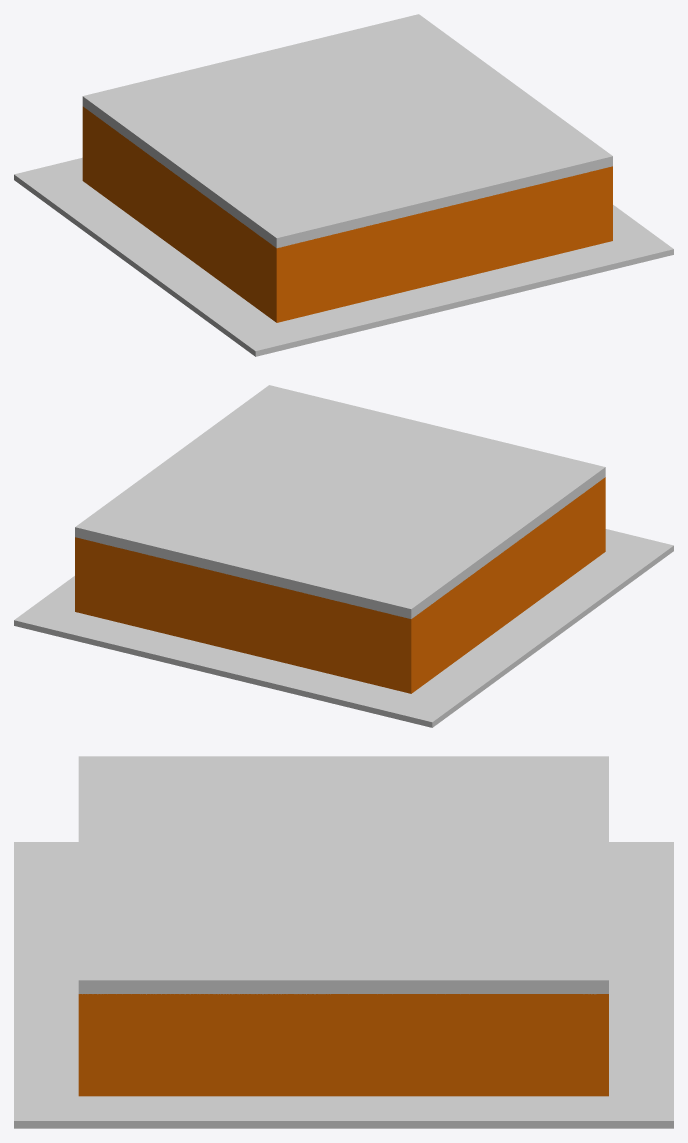
The model's file is CAKE C 1 layer.glb.
3 renders of one model, top to bottom at view 1: azimuth 30°, elevation 25°; view 2: azimuth 150°, elevation 25°; view 3: azimuth 270°, elevation 25°, orthographic. The views are drawn at different scales.
Parts seen in each view (by area): view 1: base top 3, base bot 3, plate 3; view 2: base top 3, base bot 3, plate 3; view 3: base top 3, plate 3, base bot 3.
Part boxes in pixels (x1=…): base top 3: x1=82, y1=14, x2=612, y2=248; base bot 3: x1=82, y1=106, x2=612, y2=322; plate 3: x1=14, y1=157, x2=673, y2=356; base top 3: x1=75, y1=385, x2=605, y2=618; base bot 3: x1=75, y1=477, x2=605, y2=693; plate 3: x1=14, y1=529, x2=673, y2=727; base top 3: x1=78, y1=756, x2=608, y2=994; plate 3: x1=14, y1=842, x2=673, y2=1128; base bot 3: x1=78, y1=994, x2=608, y2=1096.
Size of the model in its own units: 2 by 0.4129 by 2.
